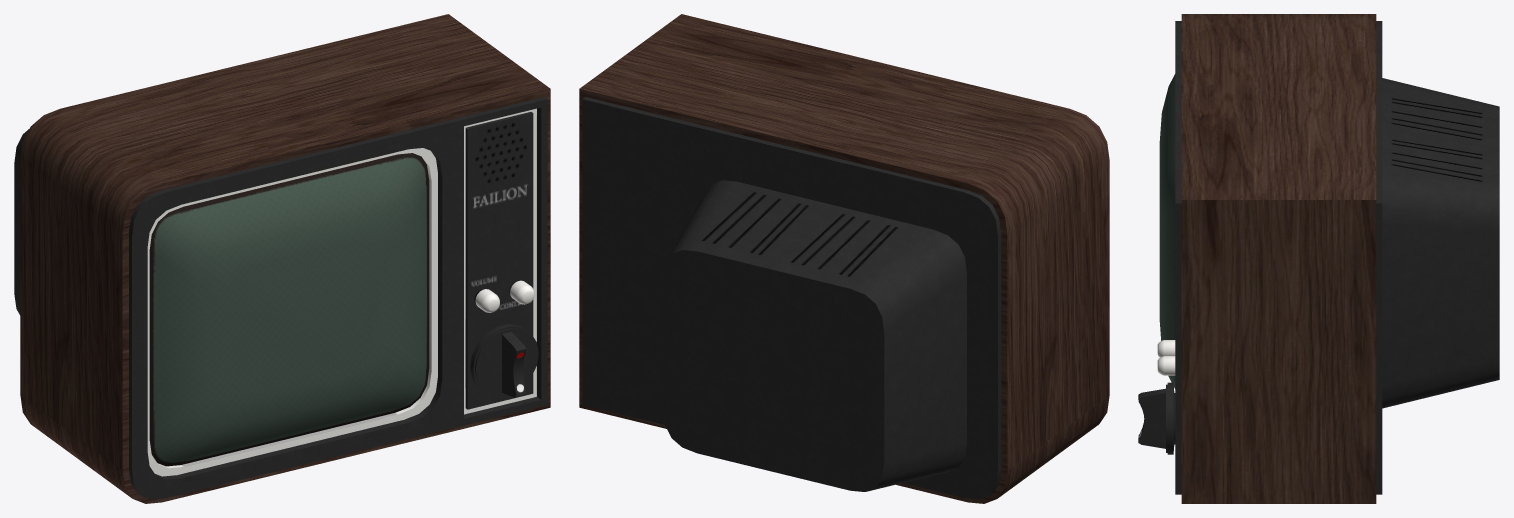
The model's file is old_tv_01.glb.
3 renders of one model, left to right at view 1: azimuth 30°, elevation 25°; view 2: azimuth 150°, elevation 25°; view 3: azimuth 270°, elevation 25°, orthographic. The views are drawn at different scales.
Parts seen in each view (by area): view 1: OldTV_01_LOD0; view 2: OldTV_01_LOD0; view 3: OldTV_01_LOD0.
Part boxes in pixels (<box>): OldTV_01_LOD0: <box>14,14,550,503</box>; OldTV_01_LOD0: <box>579,14,1109,503</box>; OldTV_01_LOD0: <box>1138,14,1499,503</box>.
Size of the model in its own units: 120 by 85.74 by 92.31.
Materials: 1 (1 with a texture image).
